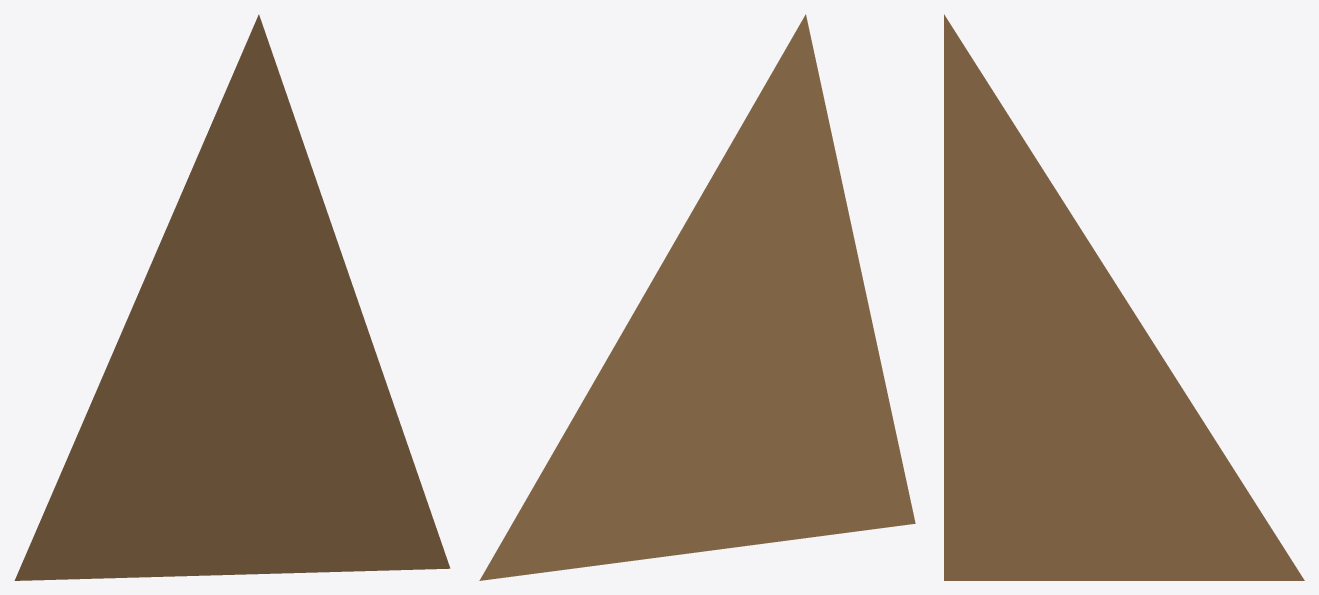
Rendered from harbor-ramp.lod1.glb.
3 views of the same model, side by side, from view 1: azimuth 30°, elevation 25°; view 2: azimuth 150°, elevation 25°; view 3: azimuth 270°, elevation 25° (orthographic). The views are drawn at different scales.
Parts seen in each view (by area): view 1: harbor-ramp__body; view 2: harbor-ramp__body; view 3: harbor-ramp__body.
Part boxes in pixels (x1,y1,x2,y2): harbor-ramp__body: (14,14,450,580); harbor-ramp__body: (479,14,915,580); harbor-ramp__body: (944,14,1304,580).
Size of the model in its own units: 2 by 3 by 2.
